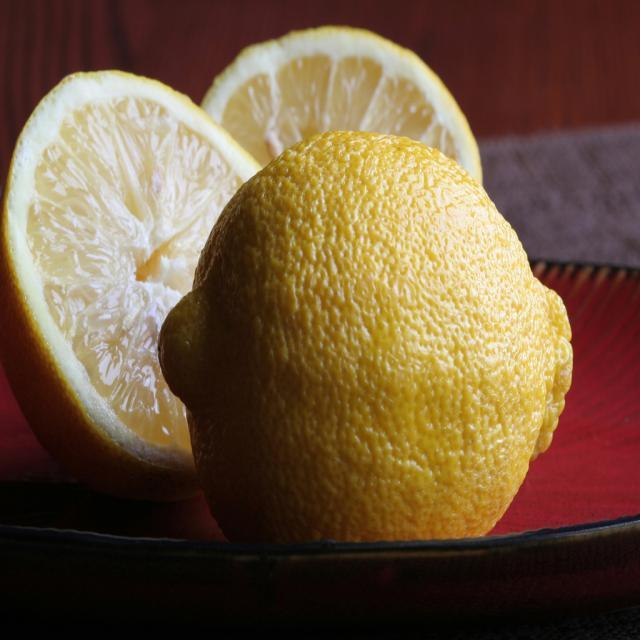Orange: (164, 135, 573, 546), (0, 70, 256, 470), (202, 22, 482, 175)
